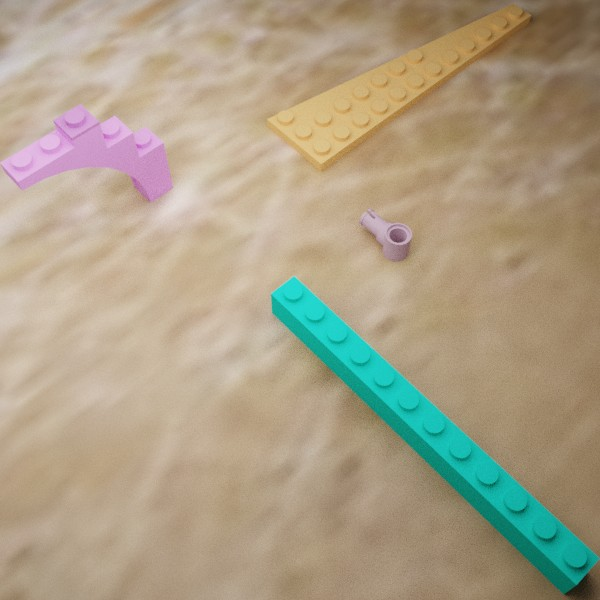lego: (270, 275, 599, 594), (266, 3, 531, 171), (0, 103, 173, 202), (359, 208, 412, 261)
